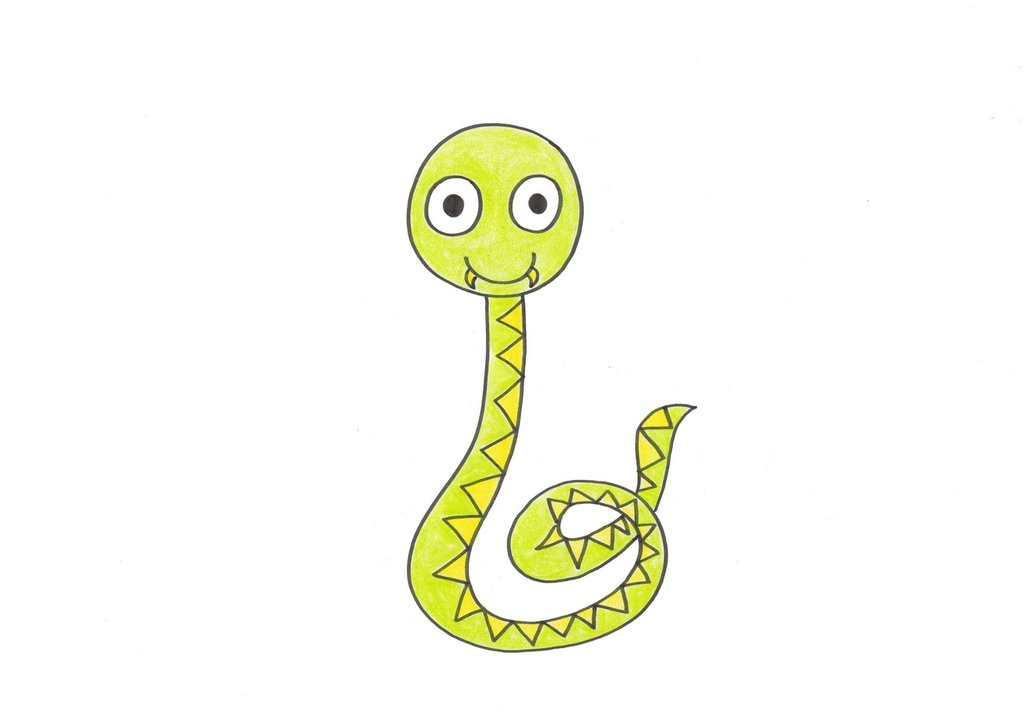Animal: (400, 122, 688, 649)
